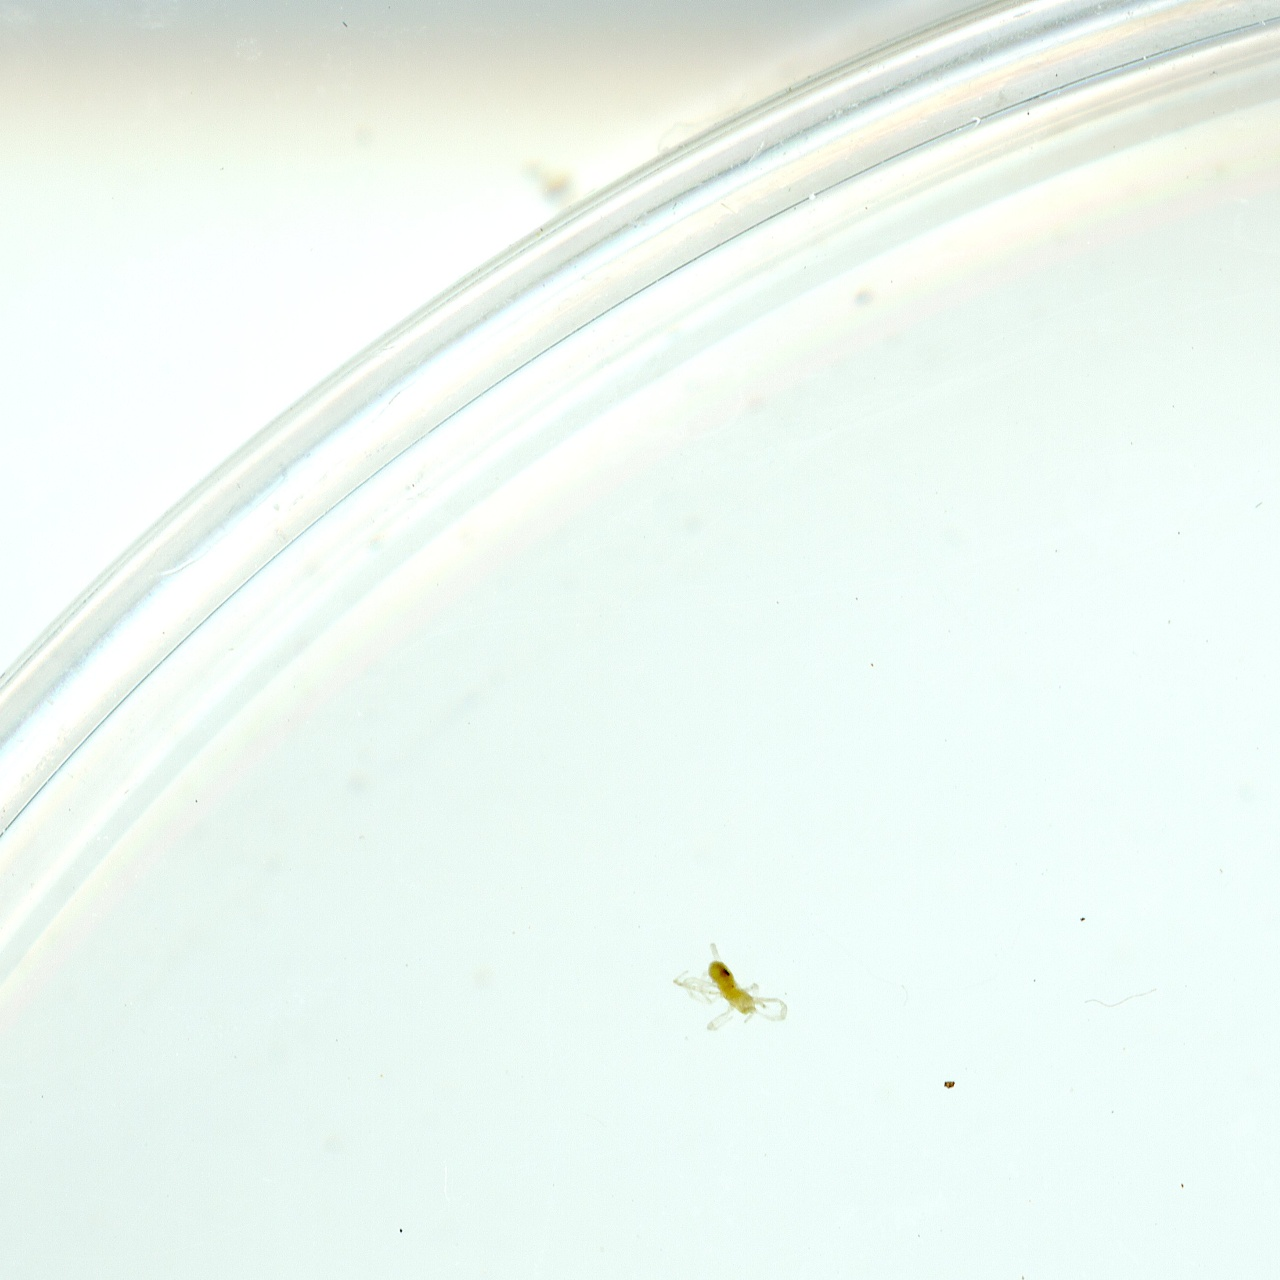arthropod: (666, 925, 802, 1042)
